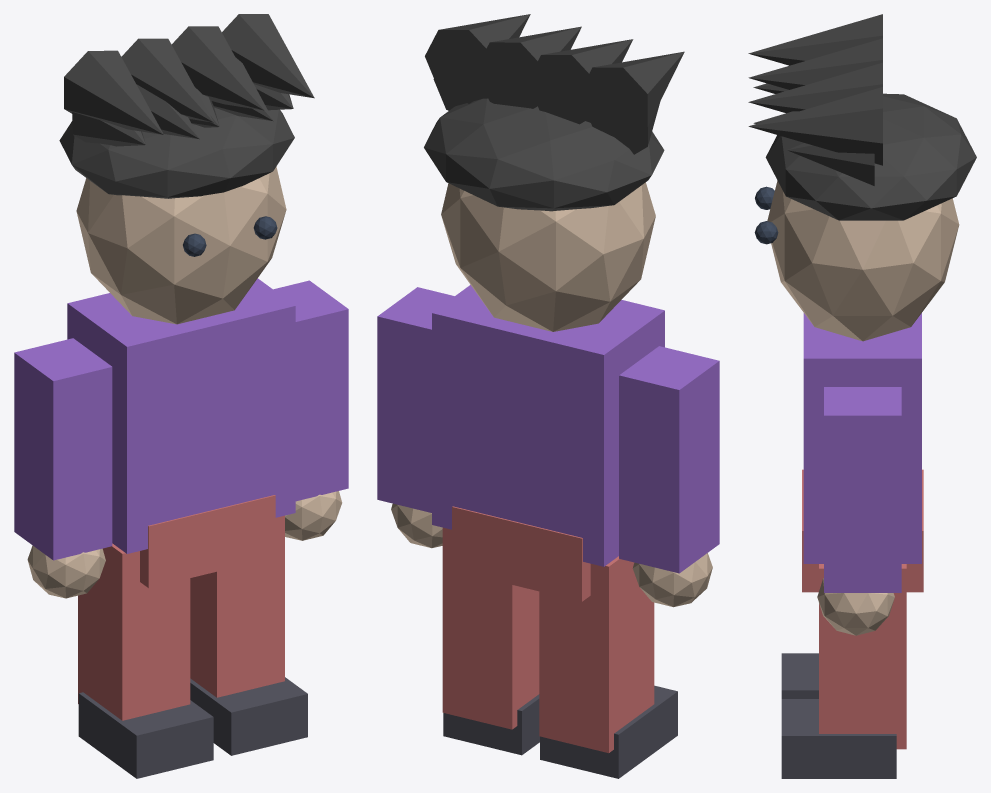
File: gohan.glb
The picture shows the model from 3 angles, left to right: view 1: azimuth 30°, elevation 25°; view 2: azimuth 150°, elevation 25°; view 3: azimuth 270°, elevation 25°; orthographic projection. The views are drawn at different scales.
Visible parts, largest first — view 1: part_000, part_010, part_002, part_004, part_013, part_008, part_006, part_001, part_005, part_009, part_019, part_021 (+8 smaller); view 2: part_000, part_010, part_002, part_013, part_004, part_008, part_006, part_001, part_019, part_005, part_021, part_022 (+4 smaller); view 3: part_010, part_006, part_013, part_000, part_008, part_009, part_022, part_020, part_019, part_021, part_007, part_005 (+3 smaller).
Boxes of the visible parts, x1=… form: part_000: x1=67, y1=278, x2=295, y2=553; part_010: x1=76, y1=166, x2=286, y2=324; part_002: x1=14, y1=338, x2=112, y2=560; part_004: x1=78, y1=543, x2=190, y2=720; part_013: x1=59, y1=107, x2=294, y2=198; part_008: x1=190, y1=515, x2=284, y2=697; part_006: x1=273, y1=280, x2=348, y2=501; part_001: x1=140, y1=495, x2=275, y2=588; part_005: x1=78, y1=692, x2=213, y2=778; part_009: x1=190, y1=677, x2=307, y2=755; part_019: x1=64, y1=50, x2=163, y2=134; part_021: x1=171, y1=26, x2=264, y2=110; part_000: x1=432, y1=285, x2=664, y2=566; part_010: x1=441, y1=182, x2=655, y2=331; part_002: x1=619, y1=346, x2=719, y2=573; part_013: x1=424, y1=98, x2=664, y2=211; part_004: x1=539, y1=556, x2=654, y2=753; part_008: x1=442, y1=527, x2=539, y2=729; part_006: x1=377, y1=287, x2=454, y2=512; part_001: x1=452, y1=506, x2=590, y2=601; part_019: x1=579, y1=51, x2=684, y2=141; part_005: x1=540, y1=685, x2=677, y2=778; part_021: x1=476, y1=26, x2=581, y2=108; part_022: x1=425, y1=14, x2=530, y2=103; part_010: x1=767, y1=180, x2=959, y2=341; part_006: x1=824, y1=387, x2=901, y2=592; part_013: x1=765, y1=93, x2=976, y2=220; part_000: x1=803, y1=313, x2=921, y2=563; part_008: x1=819, y1=564, x2=906, y2=749; part_009: x1=781, y1=699, x2=896, y2=778; part_022: x1=748, y1=87, x2=882, y2=165; part_020: x1=748, y1=38, x2=882, y2=89; part_019: x1=748, y1=14, x2=882, y2=65; part_021: x1=748, y1=62, x2=882, y2=113; part_007: x1=817, y1=578, x2=894, y2=635; part_005: x1=781, y1=653, x2=818, y2=698.
Size of the model in its own units: 1.03 by 2.23 by 0.6778.
